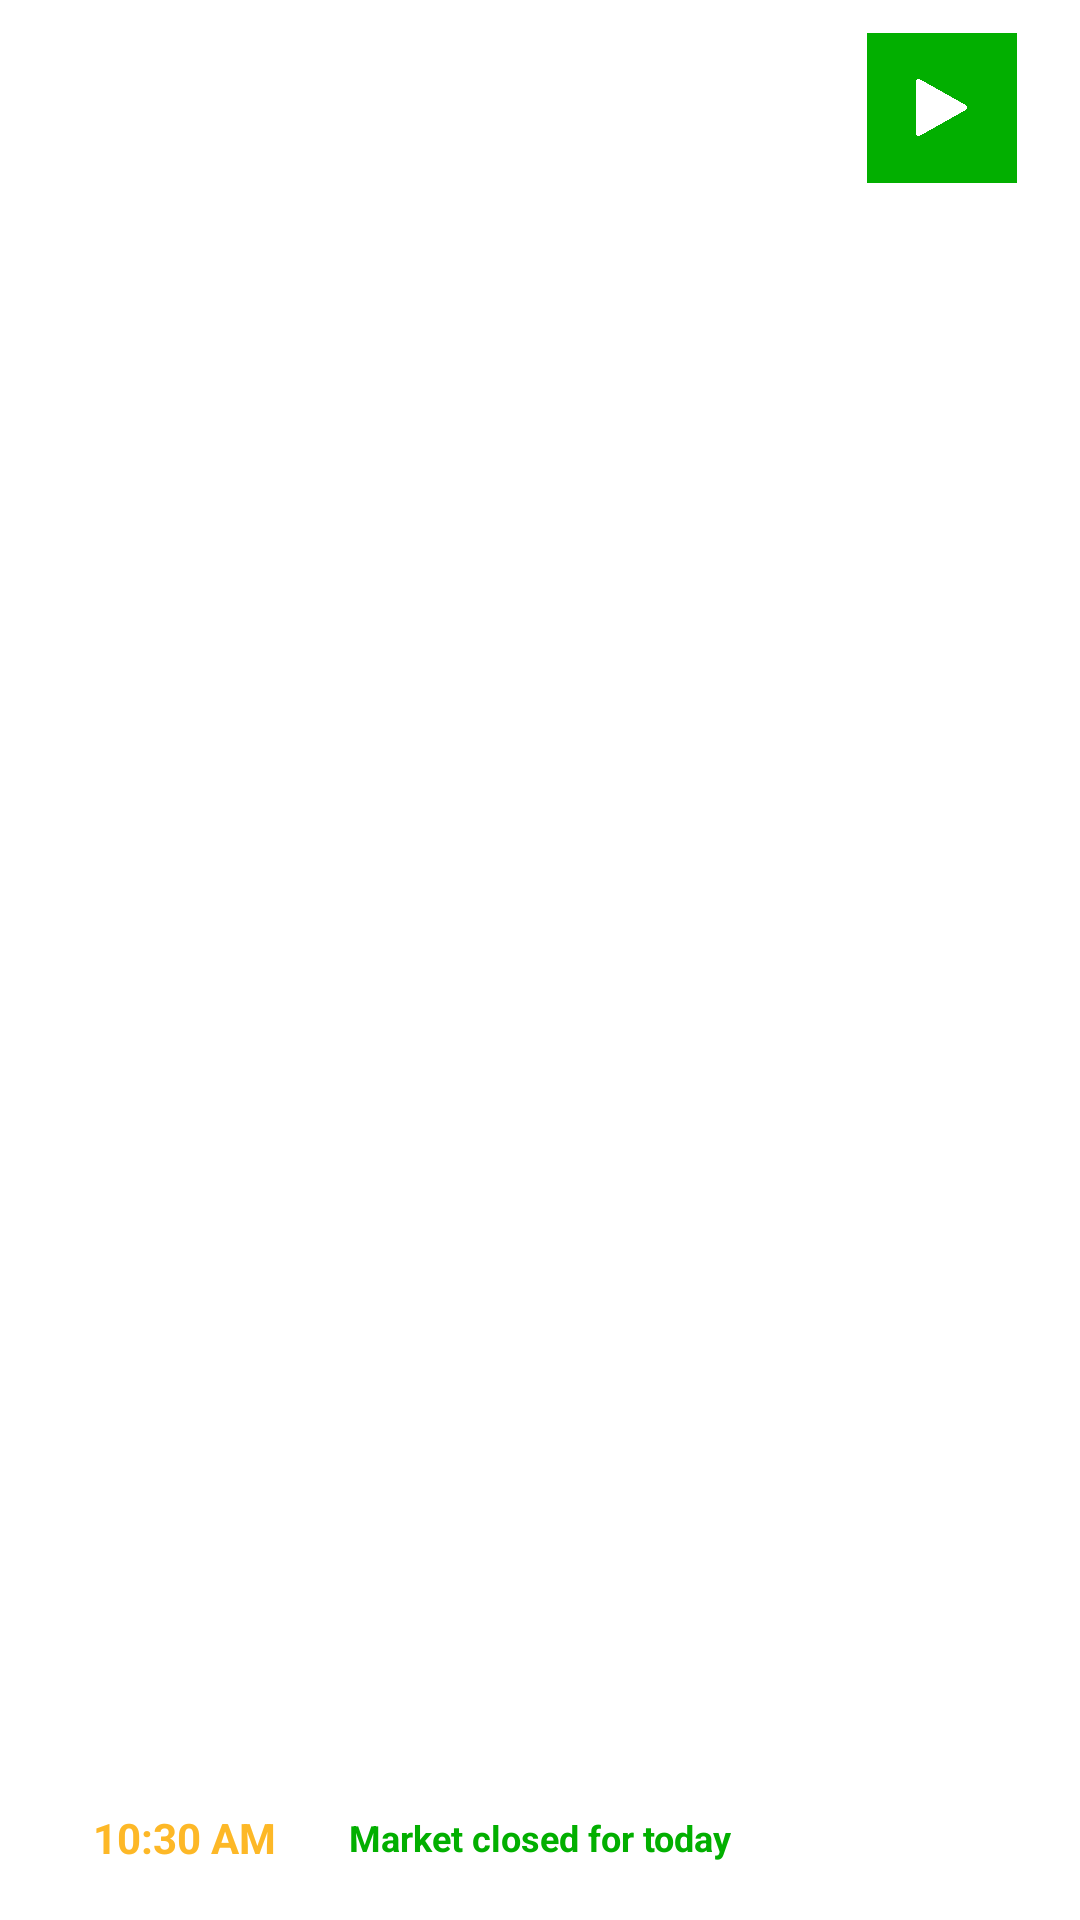

Icons on this 1080×1920 Android screen, each with its box as (x1, y1, x2, y2):
nplay: (916, 79, 967, 136)
